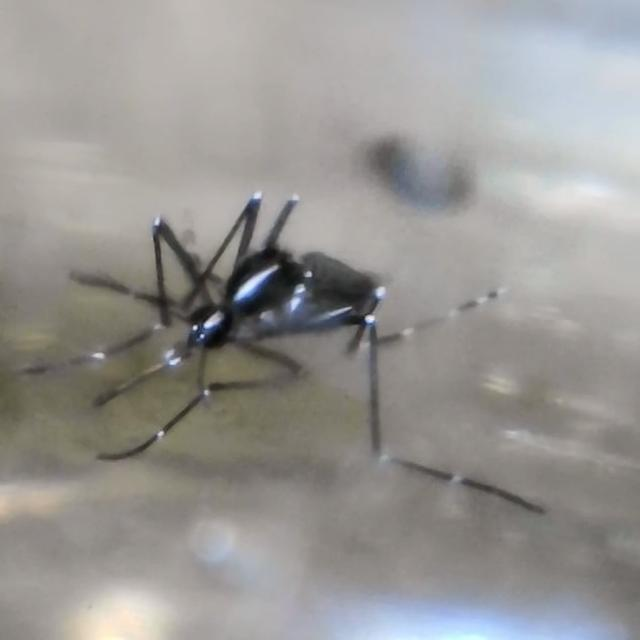albopictus: (57, 174, 440, 468)
